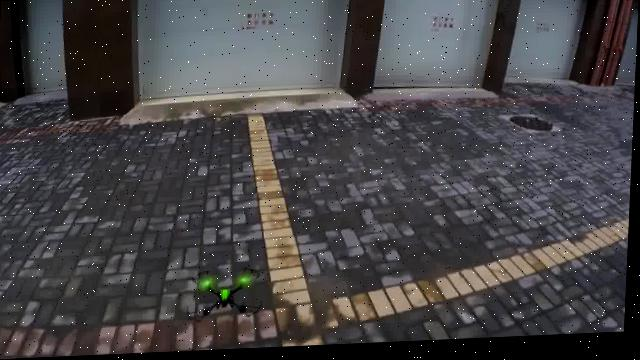drone: (182, 260, 273, 335)
